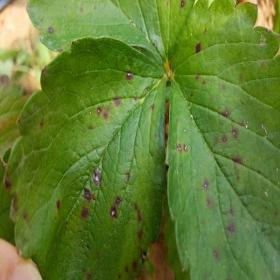Leaf Spot: (3, 36, 167, 279), (165, 0, 279, 279), (25, 0, 195, 70)
